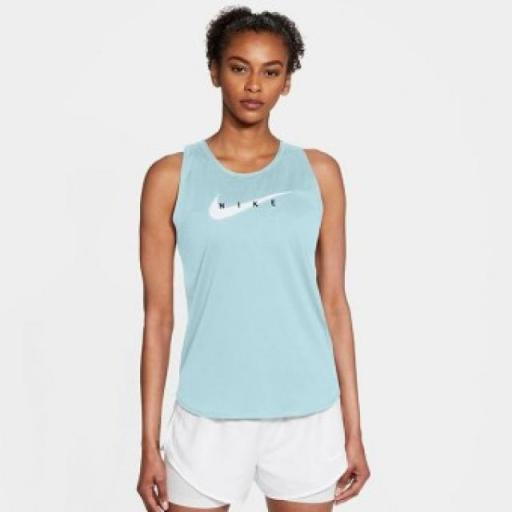Nike: (206, 188, 297, 222)
